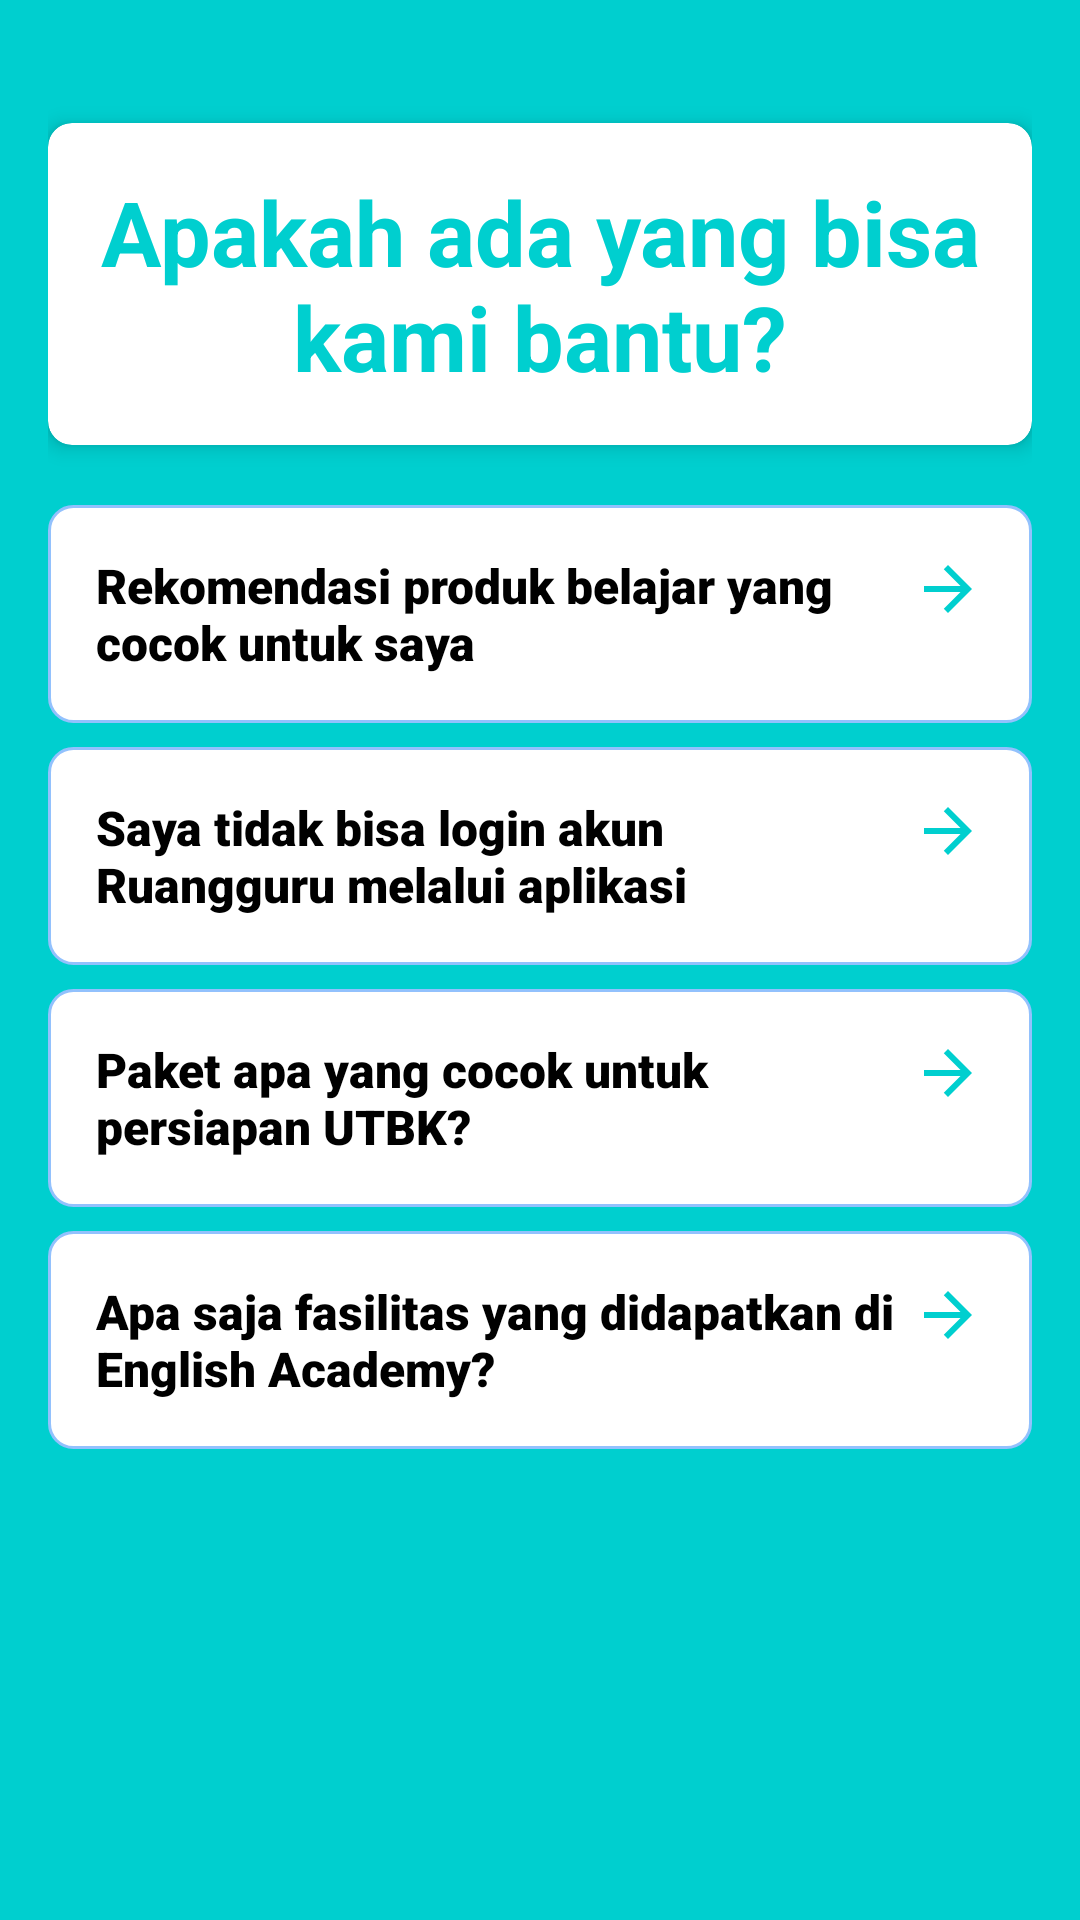

Where to tap for icons on this 1080x1920 app screen, as point (x, y):
Next: point (948, 589), point (948, 831), point (948, 1073), point (948, 1315)
